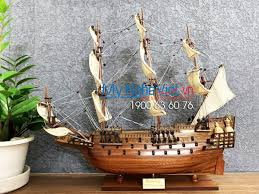tau_dansu: (50, 60, 236, 177)
